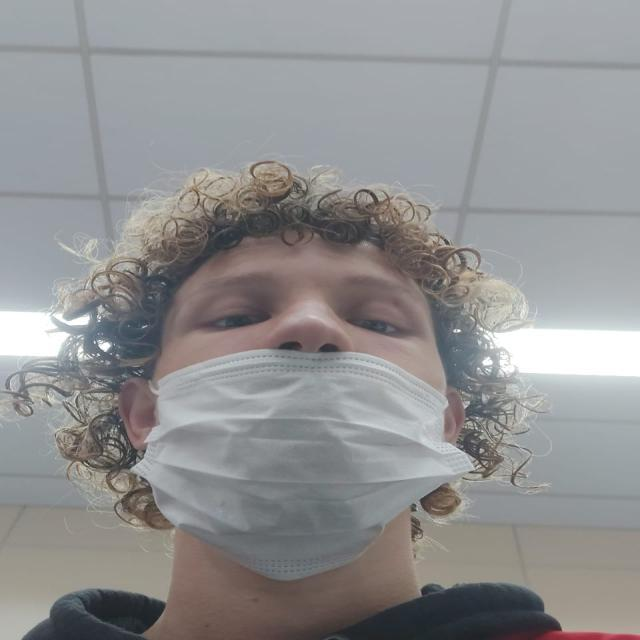hairnet: (160, 237, 443, 564)
